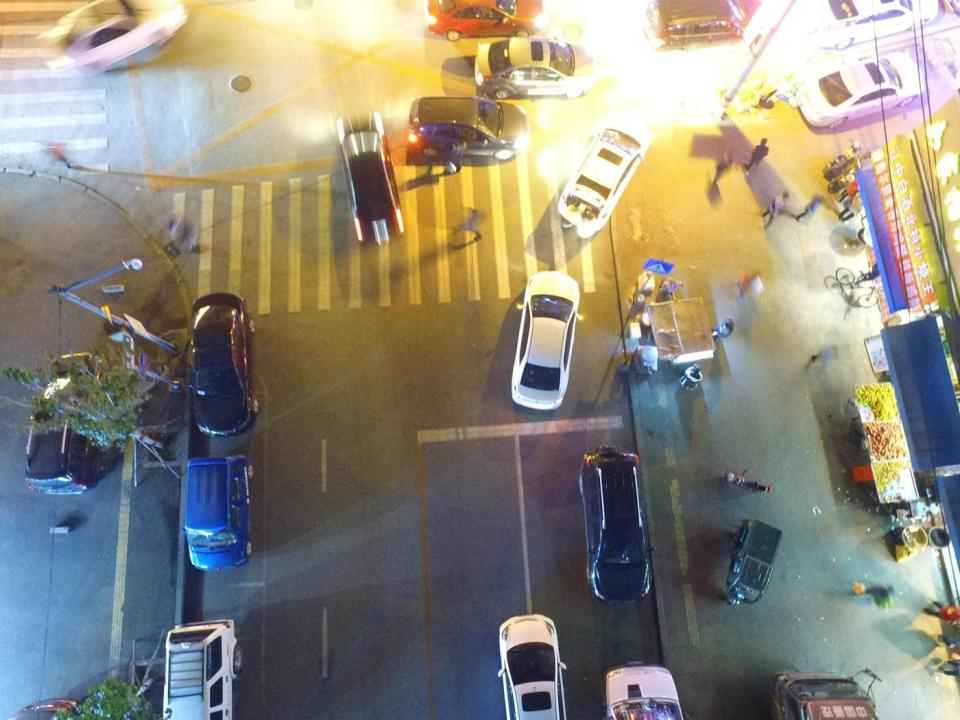car: (577, 444, 653, 607), (45, 0, 189, 81), (557, 114, 652, 232), (24, 368, 108, 496), (192, 290, 258, 440), (510, 270, 580, 411), (795, 51, 920, 129), (473, 34, 599, 102), (406, 95, 530, 161), (334, 110, 400, 229), (498, 611, 568, 720), (808, 0, 922, 50), (425, 0, 545, 42), (602, 662, 685, 720), (3, 696, 82, 720)
truck: (767, 666, 880, 720)
van: (160, 616, 245, 720), (182, 452, 254, 572), (639, 0, 746, 56)
